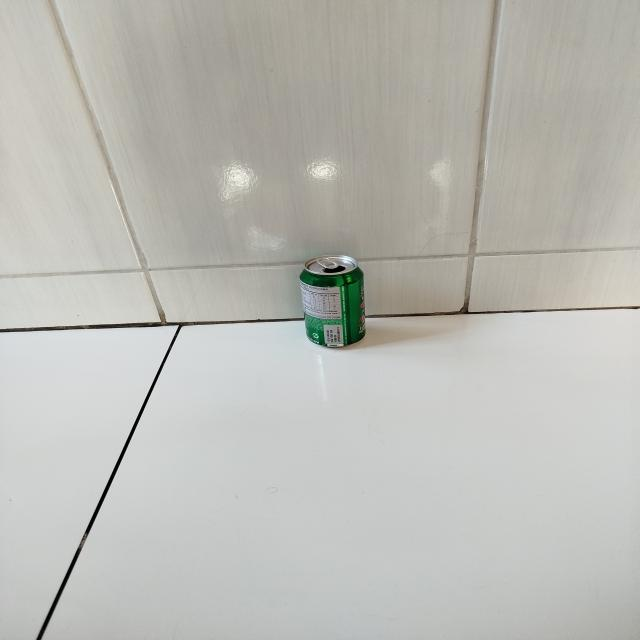Guarana: (300, 256, 368, 349)
